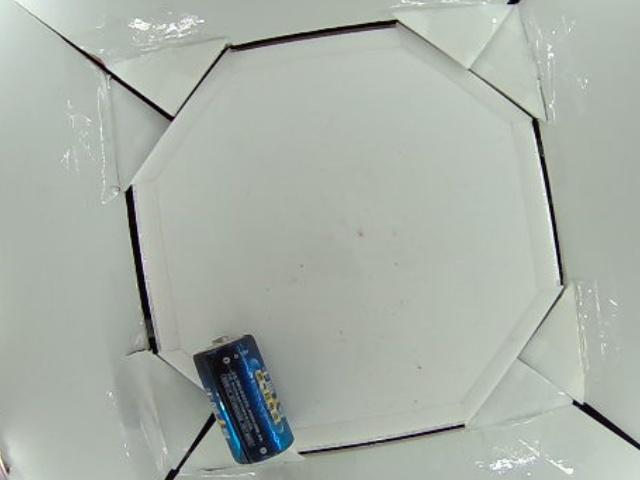Battery: (191, 335, 296, 465)
